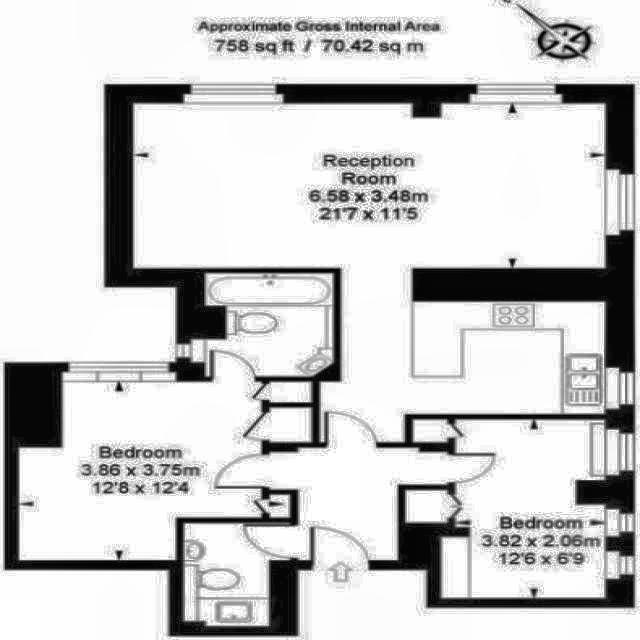room: (134, 105, 603, 268), (321, 284, 604, 443), (20, 381, 261, 560), (440, 420, 605, 598), (269, 448, 449, 561), (205, 273, 334, 377), (184, 523, 291, 626), (270, 407, 312, 442), (270, 382, 311, 402)
